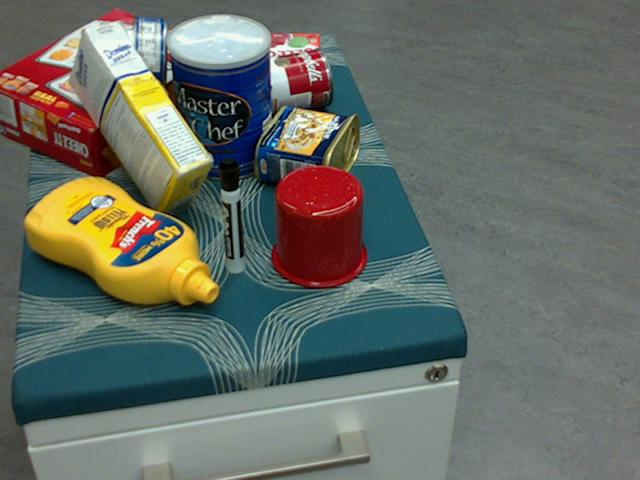cracker_box: (0, 11, 222, 179)
gelatin_box: (247, 32, 319, 80)
large_marker: (218, 157, 244, 272)
master_chef_can: (167, 14, 273, 180)
mug: (268, 163, 366, 287)
mustard_bottle: (24, 177, 218, 304)
potted_meat_can: (254, 103, 359, 198)
sugar_box: (69, 21, 215, 218)
tomato_soup_can: (232, 46, 333, 119)
tuna_fish_can: (131, 14, 166, 99)
